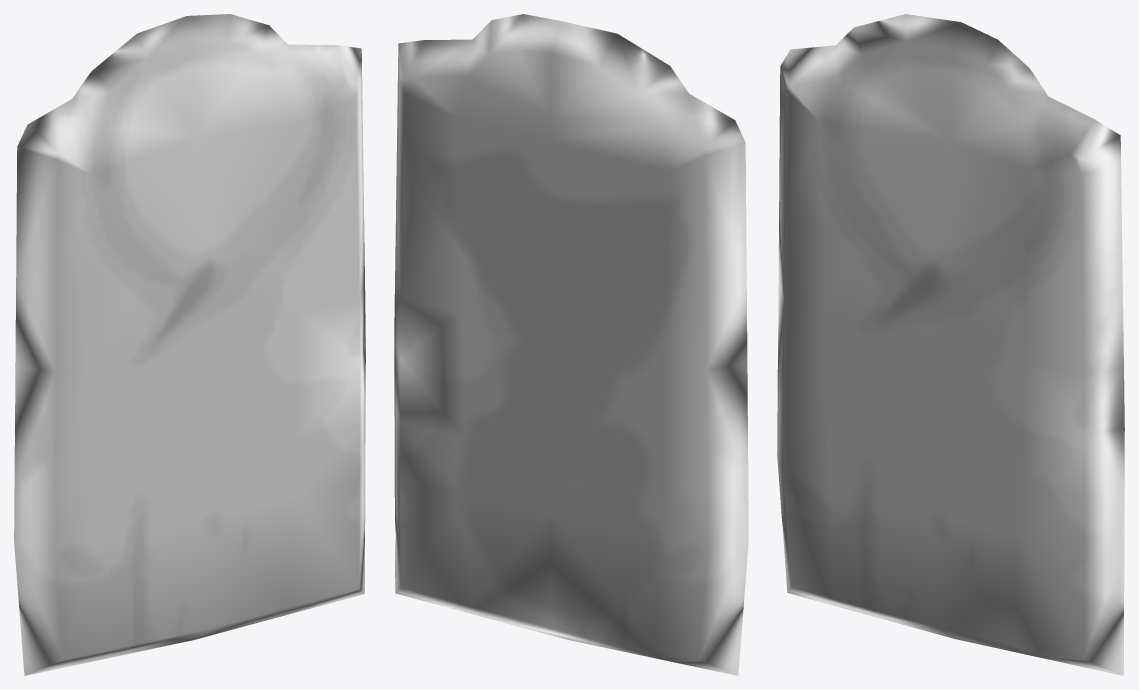
File: prop_fuku00.fbx
3 renders of one model, left to right at view 1: azimuth 30°, elevation 25°; view 2: azimuth 150°, elevation 25°; view 3: azimuth 330°, elevation 25°, orthographic.
Parts seen in each view (by area): view 1: prop_fuku00; view 2: prop_fuku00; view 3: prop_fuku00.
Boxes of the visible parts, box(x1,y1,x2,y2) form: prop_fuku00: box(14, 14, 365, 675); prop_fuku00: box(394, 14, 748, 675); prop_fuku00: box(777, 14, 1124, 675).
Size of the model in its own units: 0.2444 by 0.411 by 0.0415.
